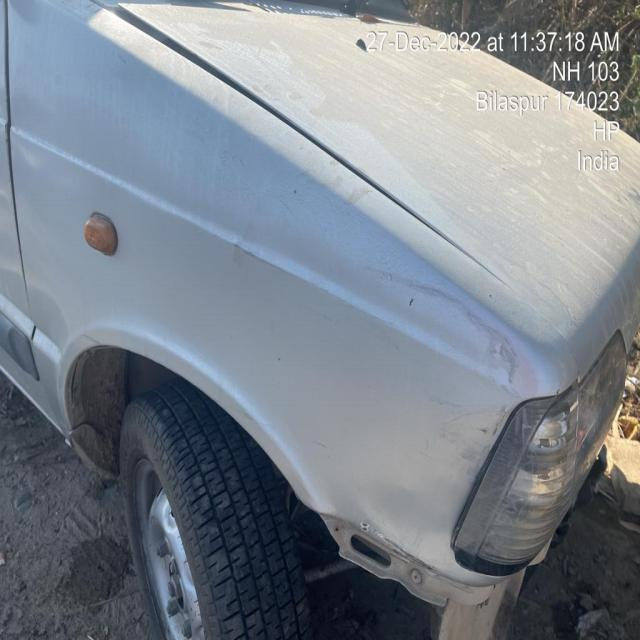damage: (371, 268, 523, 391), (322, 513, 485, 601), (430, 394, 509, 468)
